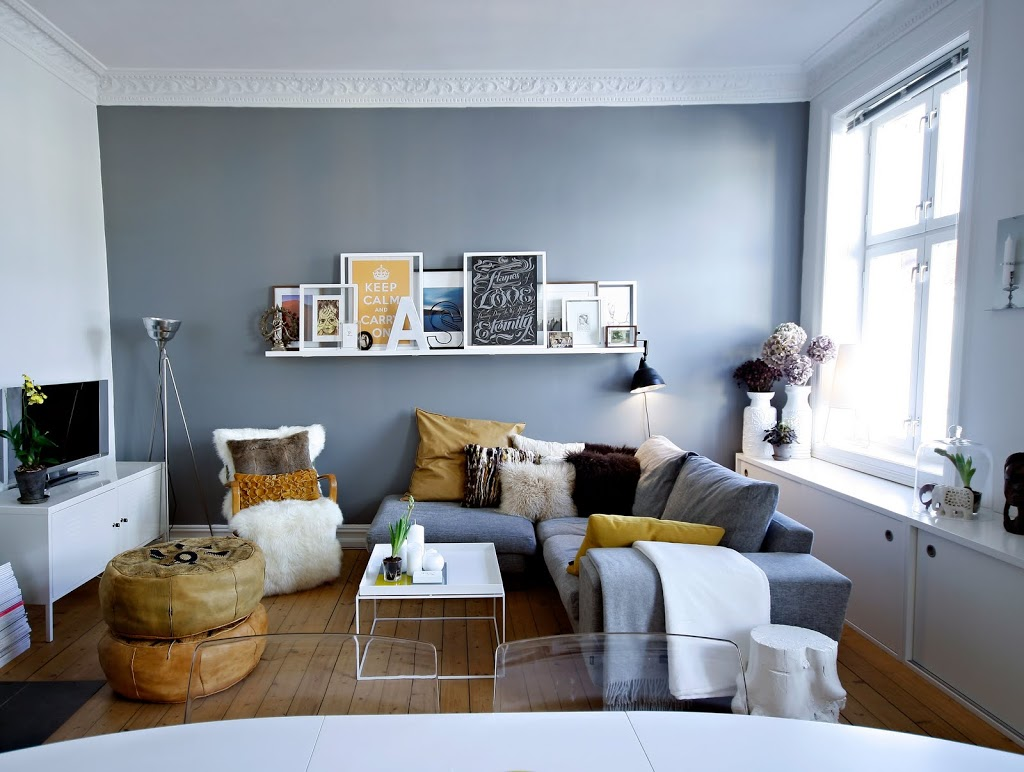bantal: (410, 406, 520, 503), (227, 435, 320, 500), (566, 451, 641, 518), (583, 514, 718, 551), (464, 445, 540, 510), (502, 464, 576, 518)
buku: (1, 556, 38, 675)
foto: (603, 324, 641, 349)
lukisan: (463, 250, 545, 345), (347, 254, 412, 347)
meja: (360, 542, 507, 643)
sova: (546, 464, 826, 688)
tanaman: (378, 524, 410, 583), (764, 421, 799, 463)
tv: (22, 377, 114, 468)
